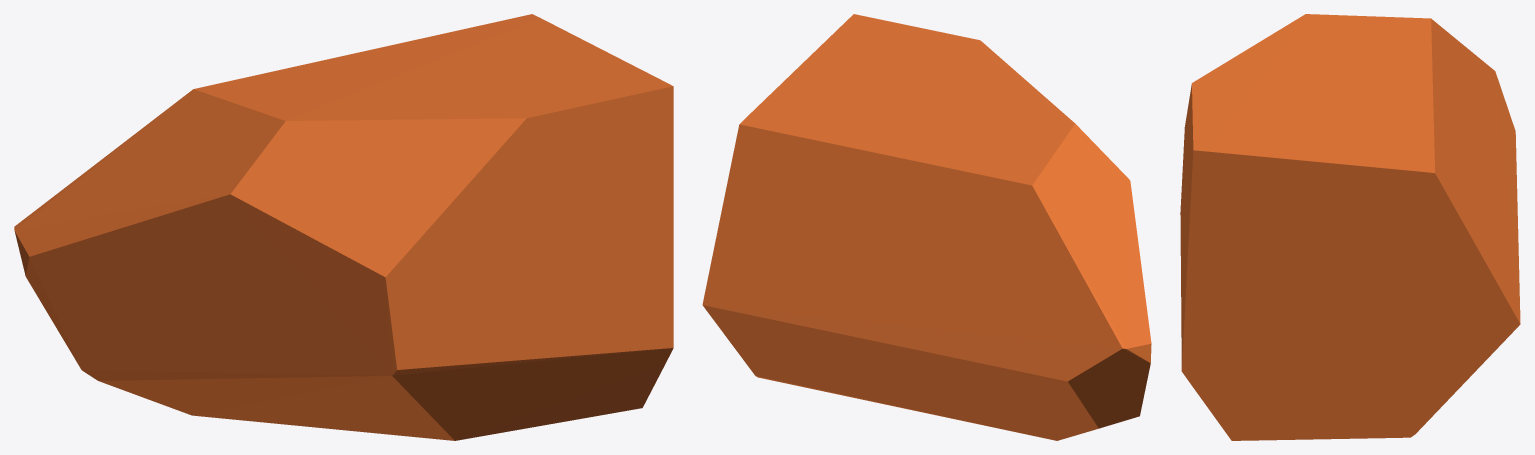
The model's file is SMALLROCK09.fbx.
3 views of the same model, side by side, from view 1: azimuth 30°, elevation 25°; view 2: azimuth 150°, elevation 25°; view 3: azimuth 270°, elevation 25° (orthographic). The views are drawn at different scales.
Visible parts, largest first — view 1: SMALLROCK09; view 2: SMALLROCK09; view 3: SMALLROCK09.
Boxes of the visible parts, <box> form: SMALLROCK09: <box>14,14,673,440</box>; SMALLROCK09: <box>702,14,1151,440</box>; SMALLROCK09: <box>1180,14,1520,440</box>.
Size of the model in its own units: 27.03 by 17.64 by 18.21.
